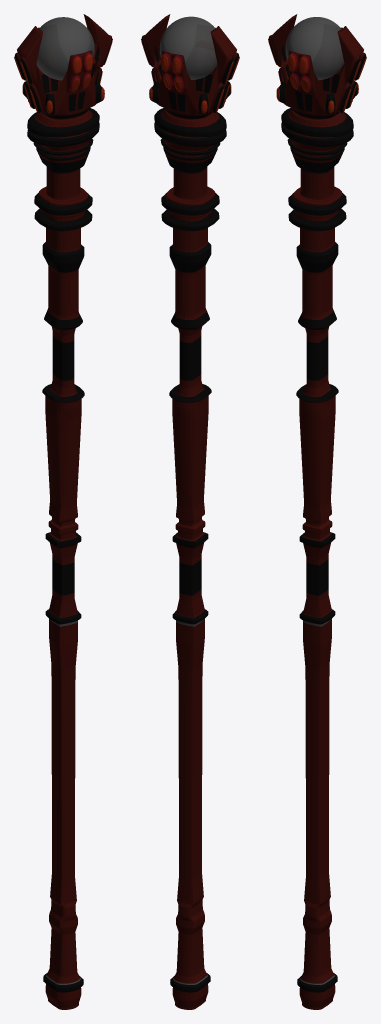
Rendered from staff smooth.fbx.
3 views of the same model, side by side, from view 1: azimuth 30°, elevation 25°; view 2: azimuth 150°, elevation 25°; view 3: azimuth 330°, elevation 25° (orthographic).
Parts seen in each view (by area): view 1: pCylinder2, pSphere1; view 2: pCylinder2, pSphere1; view 3: pCylinder2, pSphere1.
Boxes of the visible parts, x1=… form: pCylinder2: x1=14, y1=14, x2=112, y2=1009; pSphere1: x1=36, y1=17, x2=94, y2=80; pCylinder2: x1=141, y1=14, x2=239, y2=1009; pSphere1: x1=159, y1=16, x2=217, y2=79; pCylinder2: x1=268, y1=14, x2=366, y2=1009; pSphere1: x1=285, y1=17, x2=344, y2=80.
Bounding box in the file's own units: 12.08 × 122 × 9.39.
